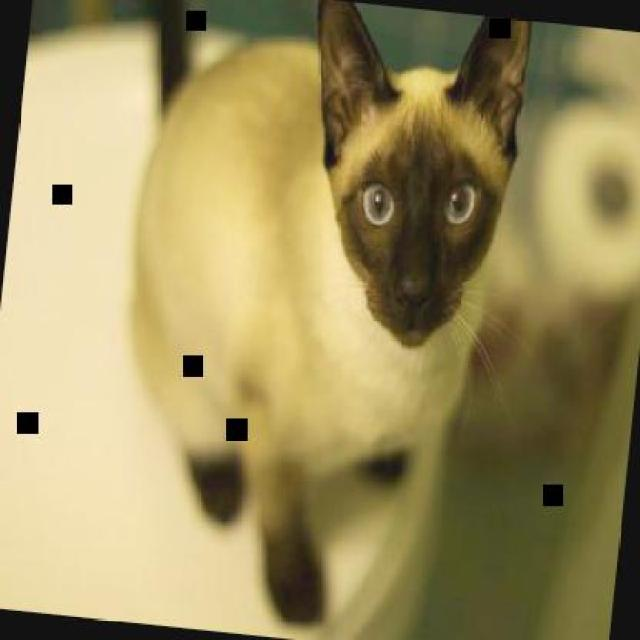cat: (92, 0, 535, 638)
